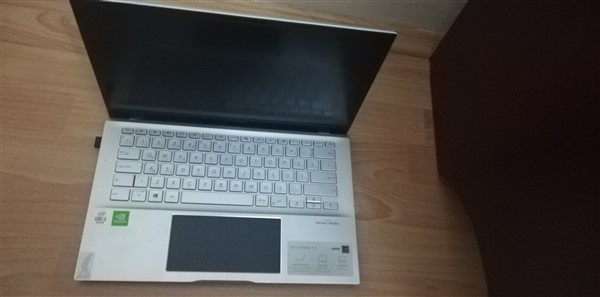laptop: (66, 2, 402, 283)
